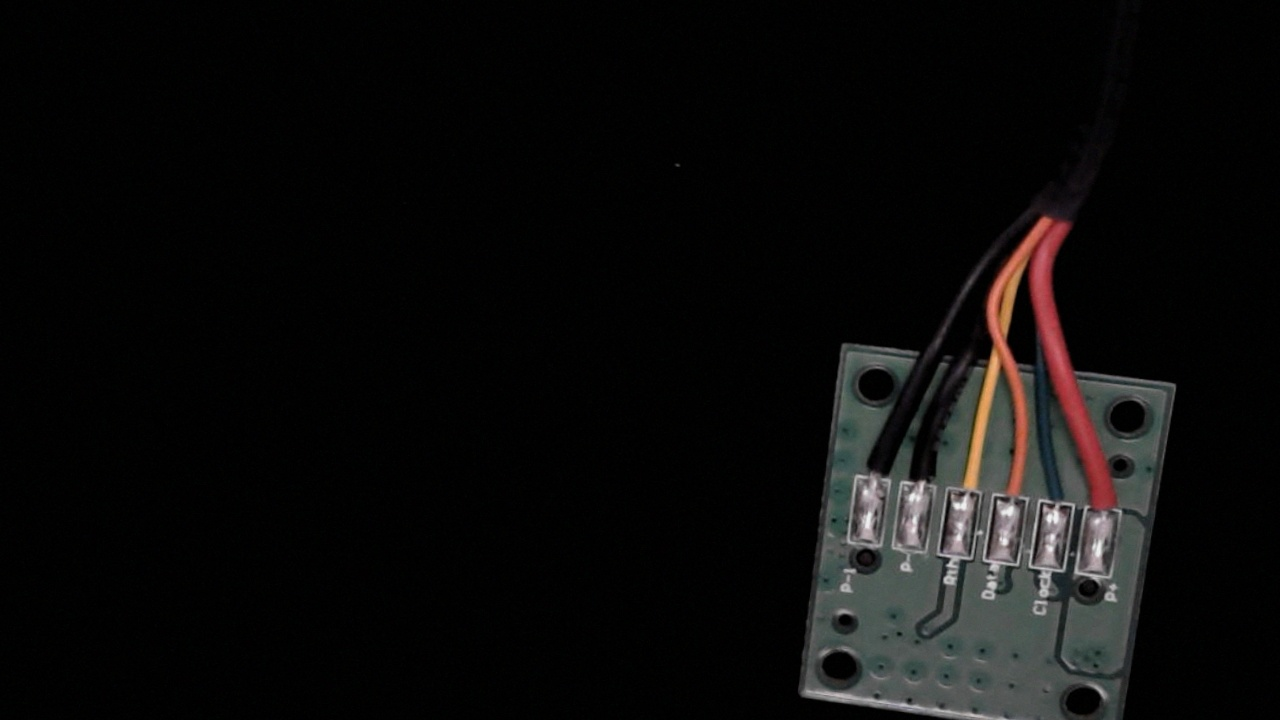Black: (902, 427, 944, 506)
Black1: (853, 431, 899, 499)
Green: (1038, 454, 1083, 526)
Orange: (992, 447, 1037, 518)
Red: (1085, 459, 1133, 532)
Yellow: (945, 433, 993, 514)
